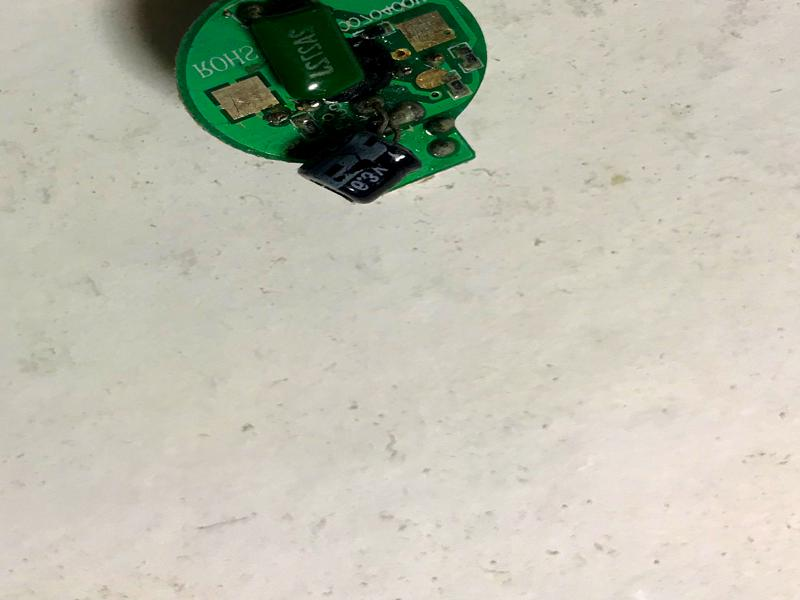Capacitor: (290, 117, 420, 207)
